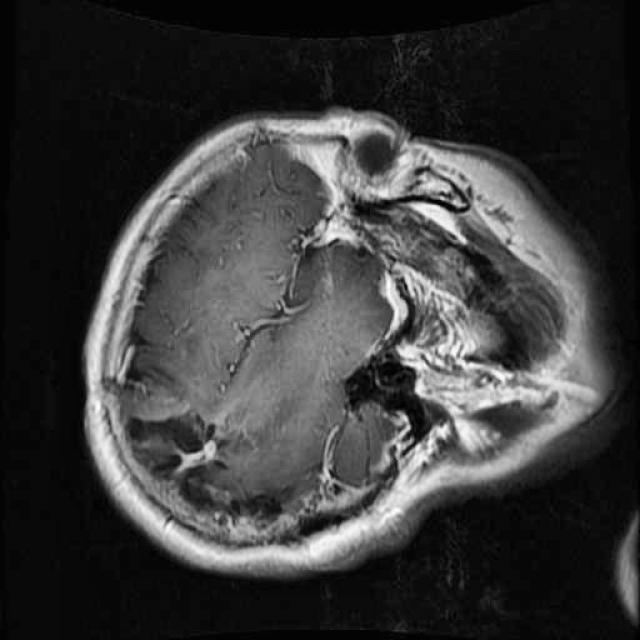Tumor: (103, 390, 335, 556)
